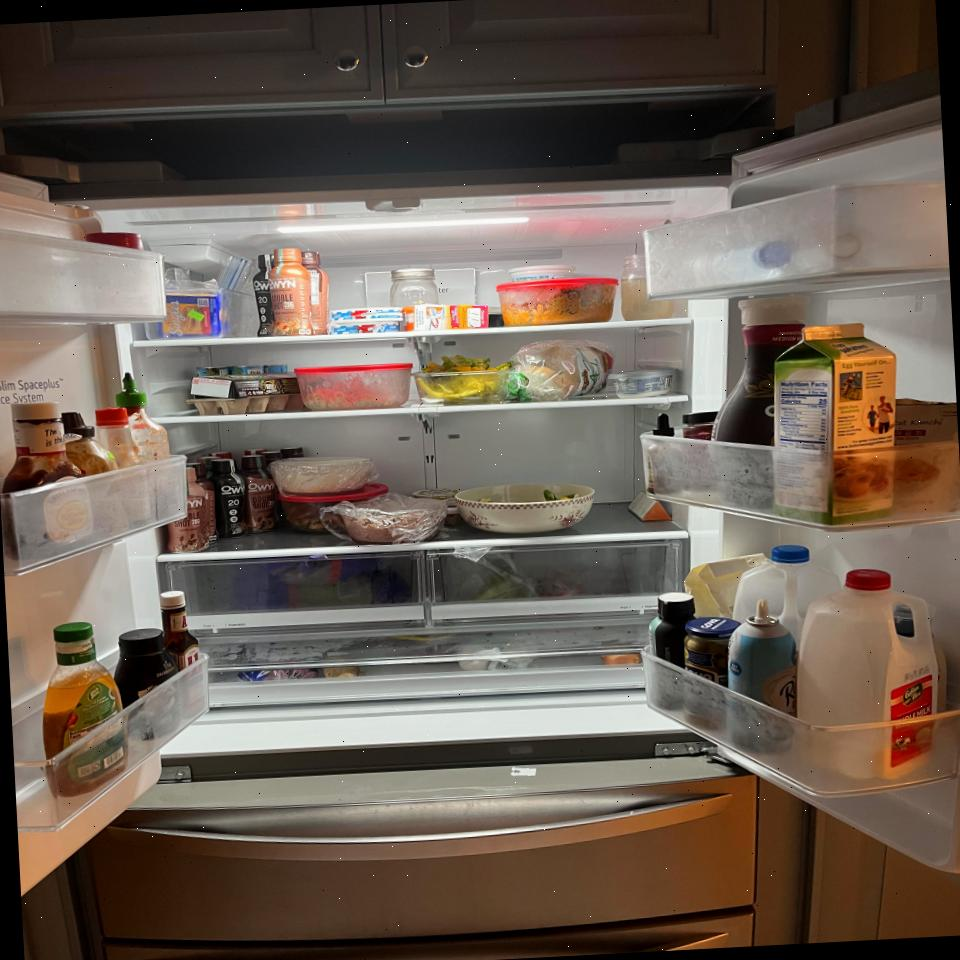Huevos: (183, 370, 305, 417)
Leche: (788, 566, 946, 785), (729, 543, 844, 644)
Queso: (156, 290, 227, 342)
Yogur: (506, 264, 578, 282)
